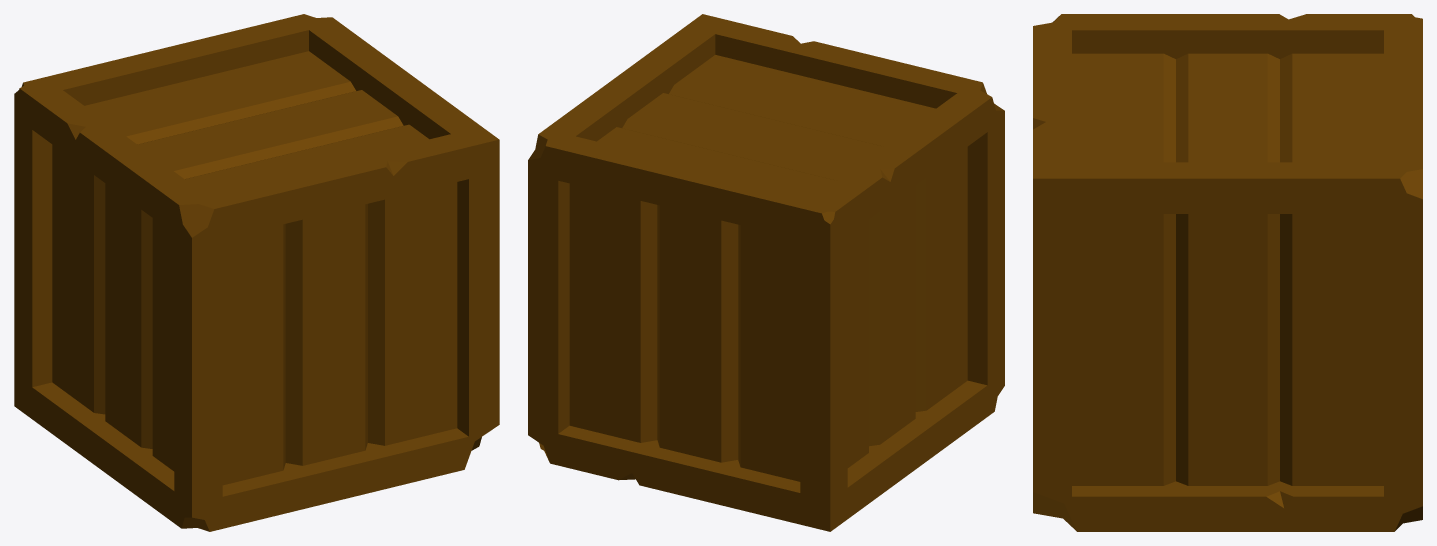
Rendered from Caja.fbx.
The picture shows the model from 3 angles, left to right: view 1: azimuth 30°, elevation 25°; view 2: azimuth 150°, elevation 25°; view 3: azimuth 270°, elevation 25°; orthographic projection. The views are drawn at different scales.
Visible parts, largest first — view 1: Cube; view 2: Cube; view 3: Cube.
Part boxes in pixels (x1=…): Cube: x1=14, y1=14, x2=499, y2=531; Cube: x1=528, y1=14, x2=1004, y2=531; Cube: x1=1033, y1=14, x2=1422, y2=531.
Bounding box in the file's own units: 200 × 200 × 200.
